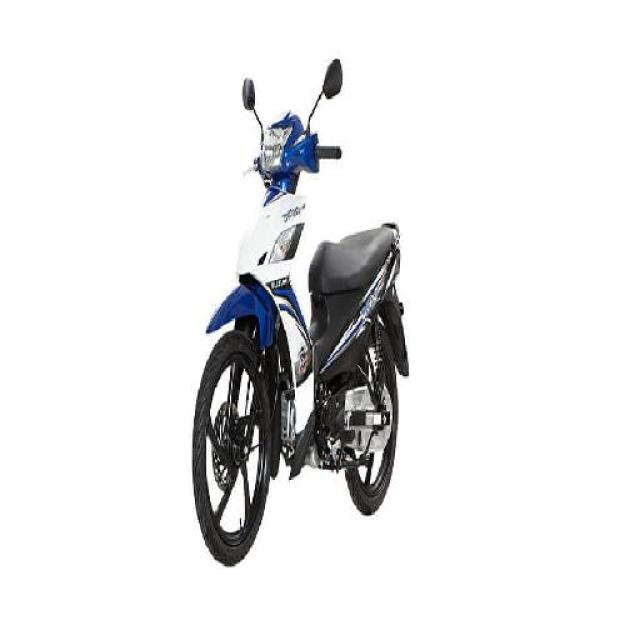All: (185, 109, 418, 568)
Head: (241, 114, 342, 184)
Tail: (360, 214, 406, 280)
